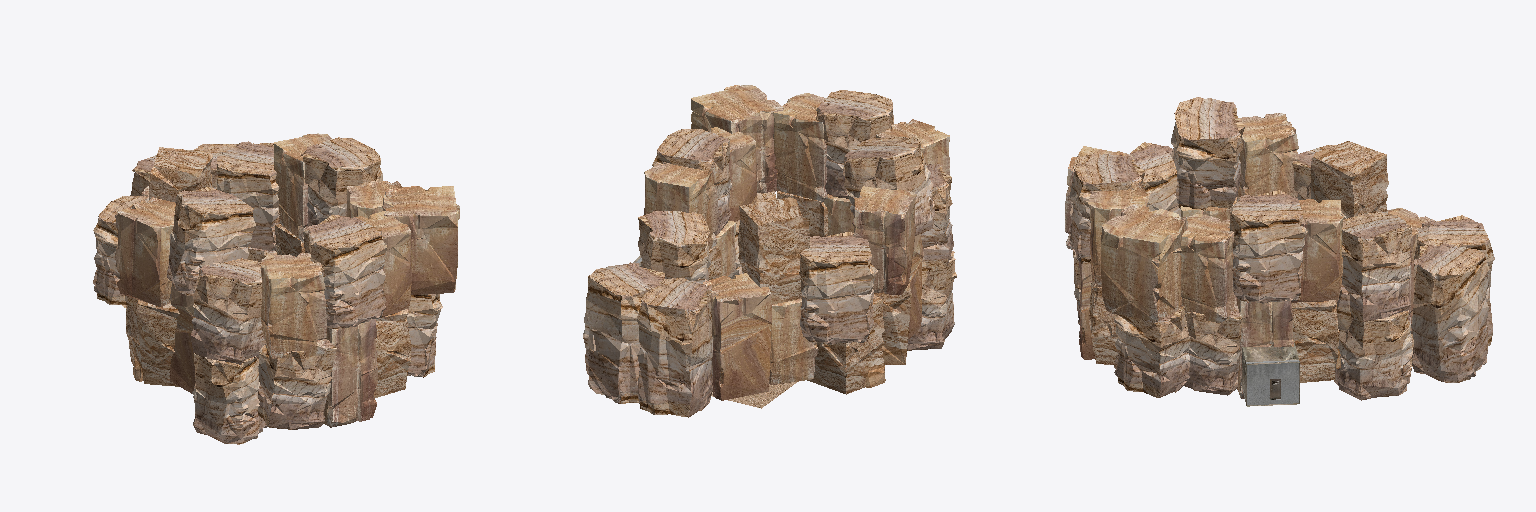
3 renders of one model, left to right at view 1: azimuth 30°, elevation 25°; view 2: azimuth 150°, elevation 25°; view 3: azimuth 270°, elevation 25°, orthographic.
Visible parts, largest first — view 1: canyon.003; view 2: canyon.003; view 3: canyon.003.
Boxes of the visible parts, x1,y1,x2,y2 form: canyon.003: [93, 133, 459, 444]; canyon.003: [583, 85, 956, 417]; canyon.003: [1065, 97, 1494, 406].
Bounding box in the file's own units: 1242 × 904 × 1658.
13 materials, 13 textured.